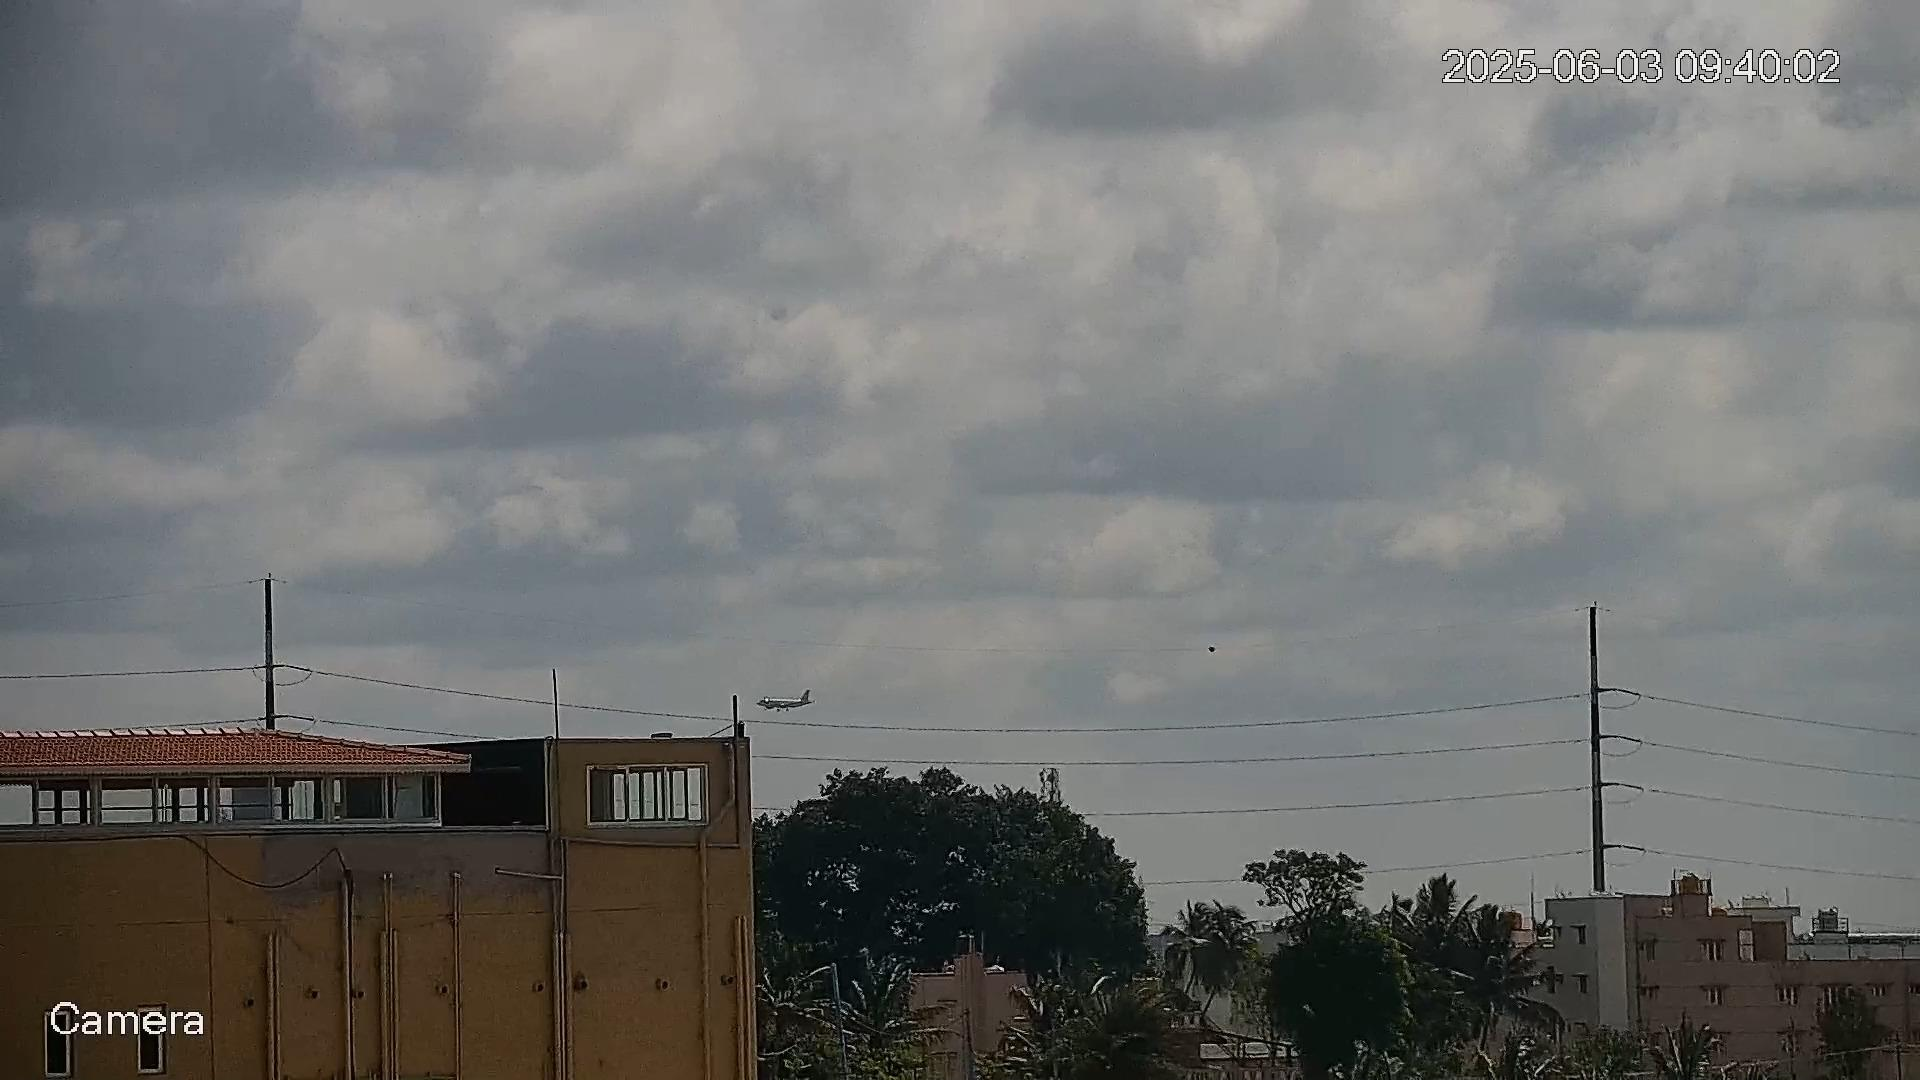Aircraft: (756, 688, 815, 713)
